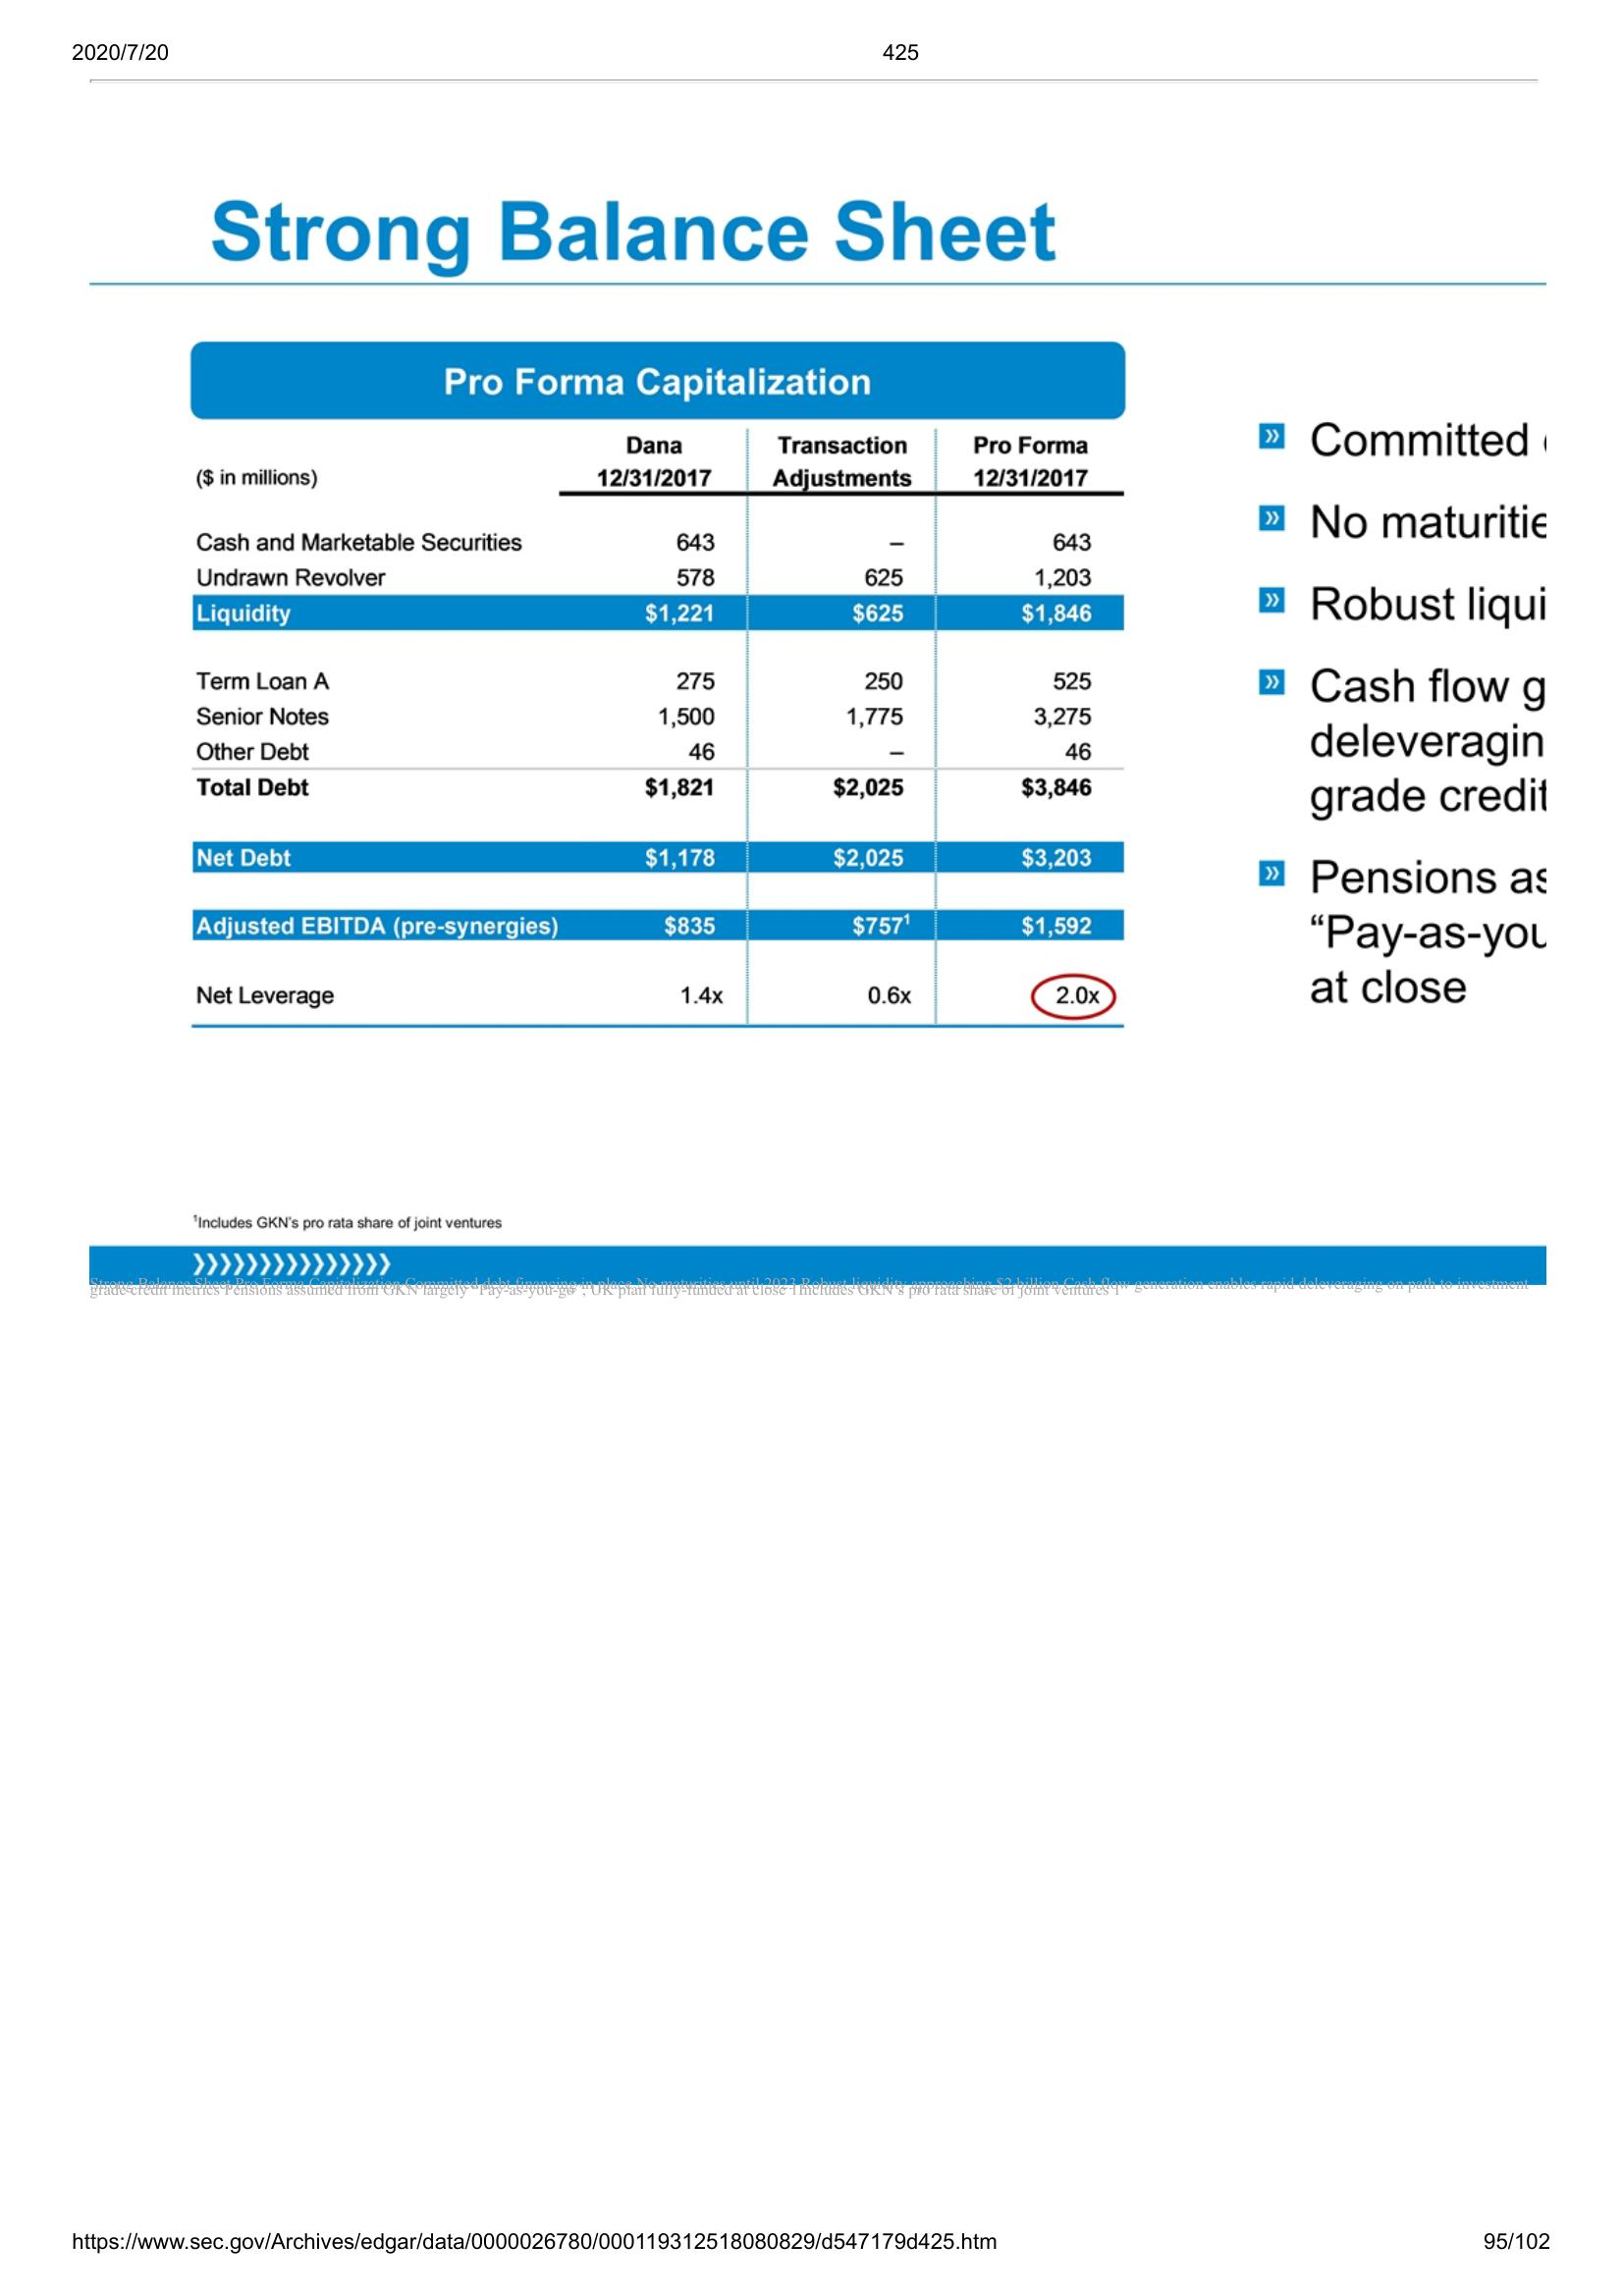table: (174, 430, 1135, 1030)
